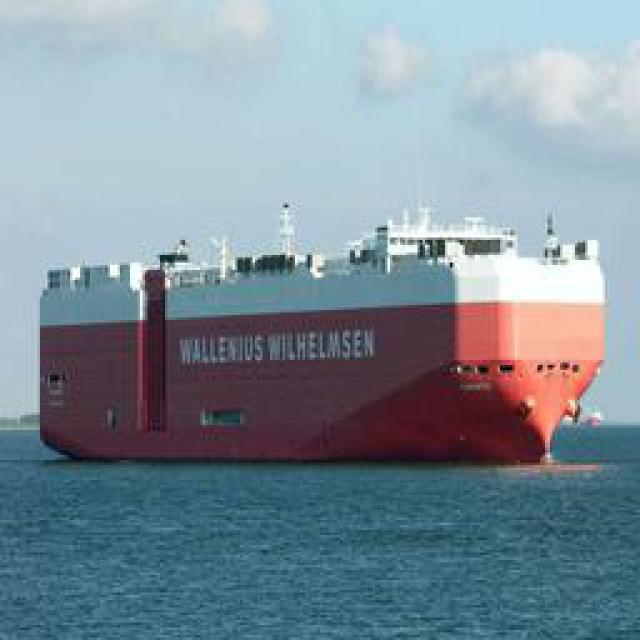Ship: (36, 195, 609, 463)
